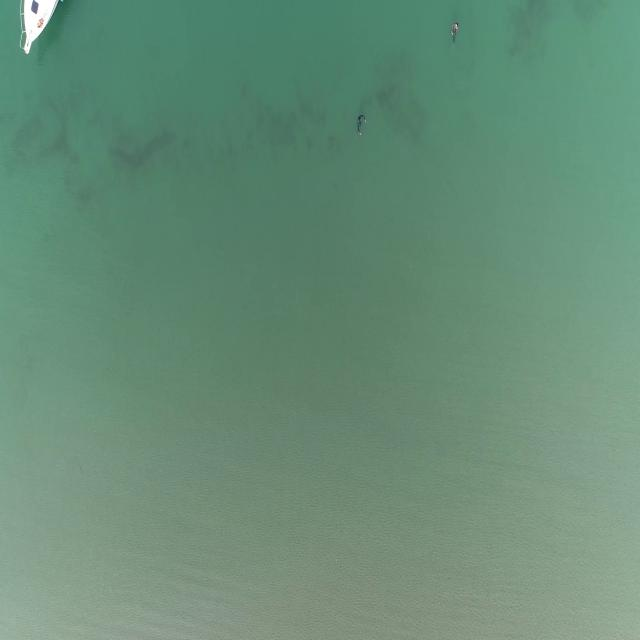boat: (18, 0, 62, 58)
person: (355, 113, 369, 135), (450, 19, 461, 47)
